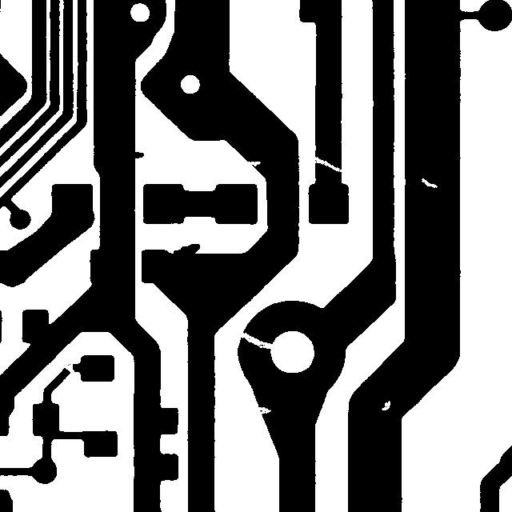mousebite: (246, 398, 278, 422), (237, 154, 268, 174)
open: (230, 323, 281, 356), (303, 148, 350, 179), (57, 354, 82, 383)
pin-hole: (414, 170, 445, 195), (374, 393, 398, 418)
spur: (166, 236, 207, 262), (119, 144, 151, 166)
